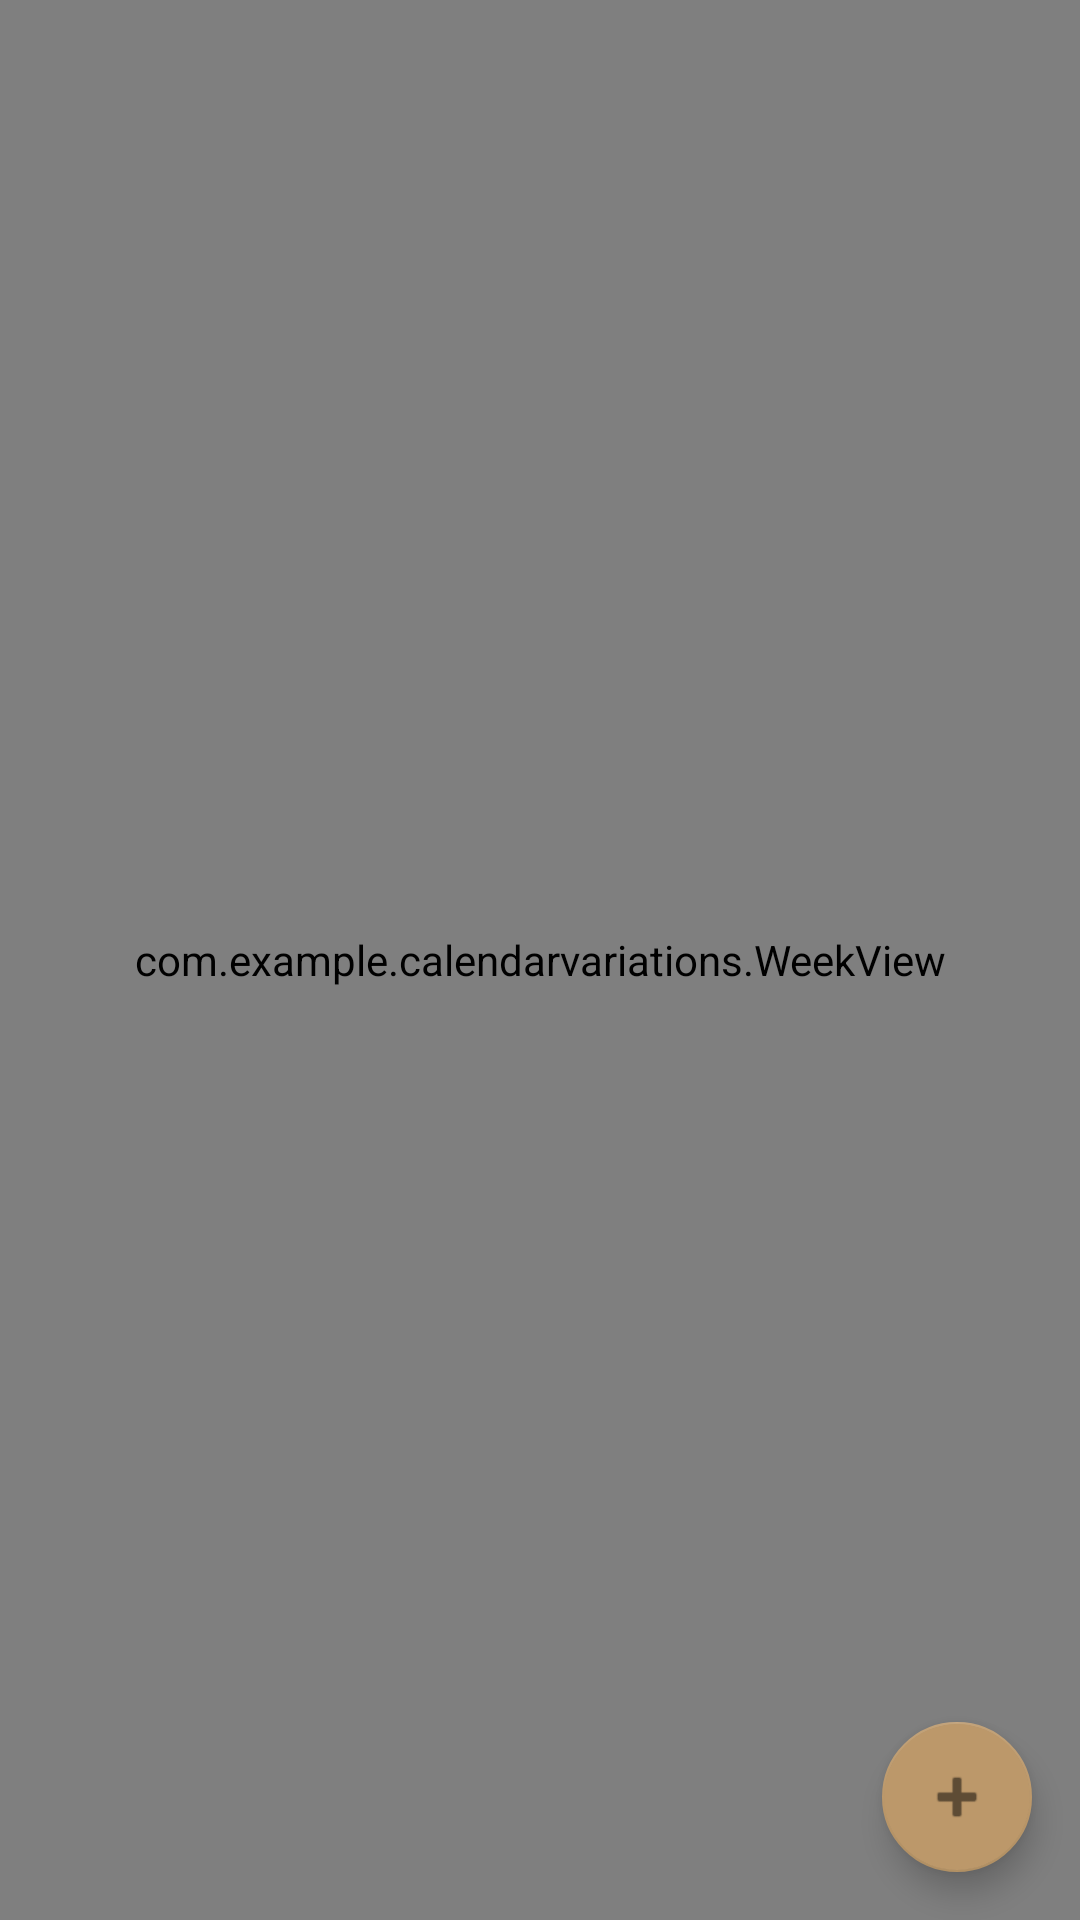

Point at icon controls on the screen. Image size 1080 × 1920, points as (x,y).
add: (957,1797)
